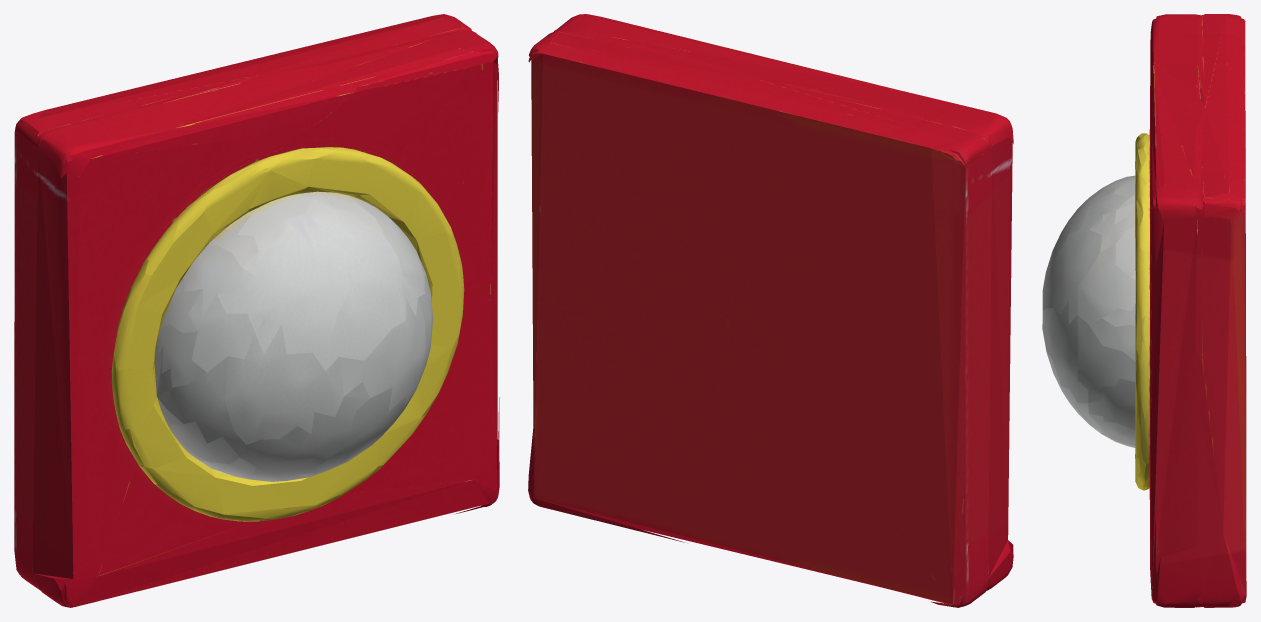
The model's file is tube_window_panel.glb.
3 views of the same model, side by side, from view 1: azimuth 30°, elevation 25°; view 2: azimuth 150°, elevation 25°; view 3: azimuth 270°, elevation 25° (orthographic). The views are drawn at different scales.
Size of the model in its own units: 1.9 by 1.9 by 0.8529.
1 material, 1 textured.
